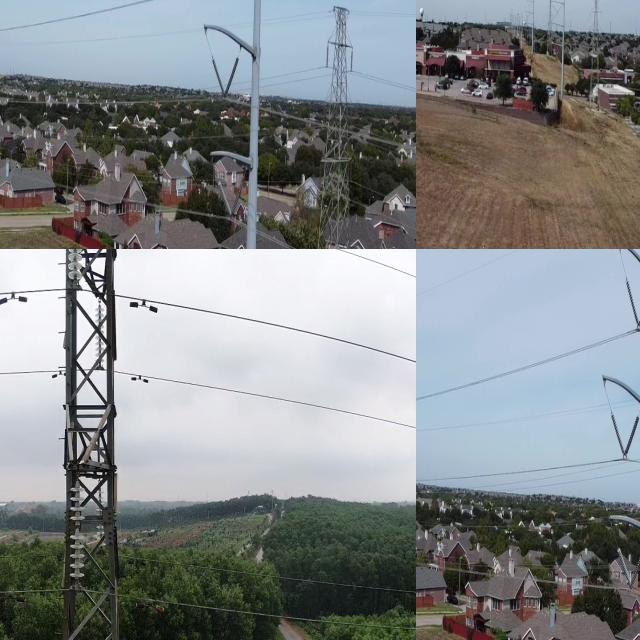杆塔: (41, 249, 140, 640), (296, 0, 365, 249), (588, 0, 602, 110), (544, 0, 554, 58)
正常绝缘子: (68, 478, 86, 586), (604, 399, 630, 463), (611, 532, 636, 592), (218, 51, 242, 113), (207, 44, 230, 108), (619, 266, 640, 333), (213, 164, 235, 222), (223, 177, 246, 230), (619, 408, 640, 465), (622, 538, 640, 602), (94, 298, 106, 371), (64, 249, 85, 282), (631, 305, 640, 339), (348, 43, 356, 77), (325, 37, 331, 72)
绝缘子破损: (74, 522, 81, 532)
